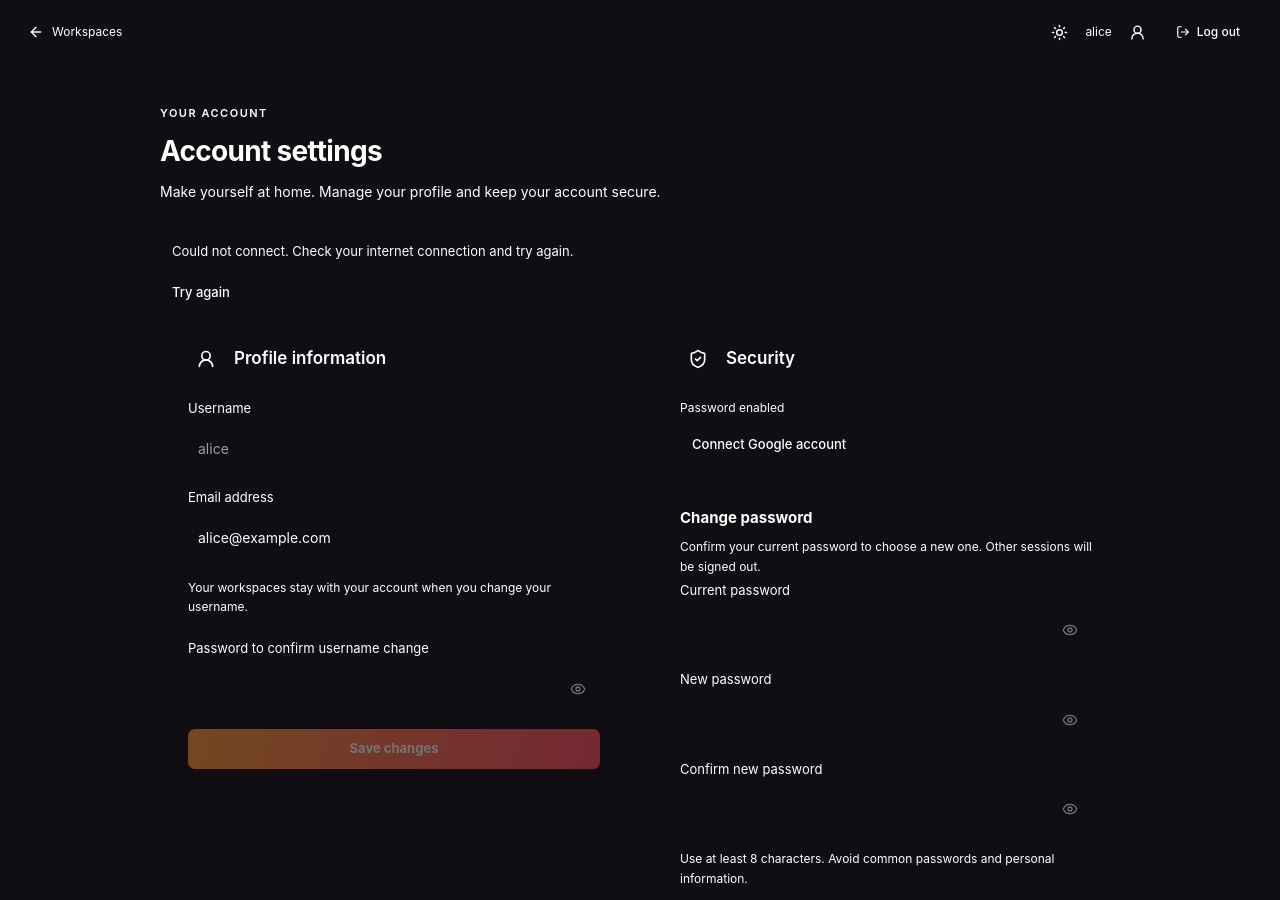
Test: disables changes after a load failure and allows retry
expect the message shows "Could not connect.": met, box [172,243,573,259]
expect the button "Save changes" is disabled: met, box [188,729,600,769]
Click the button "Try again".
click(201, 292)  # box [160,272,242,312]
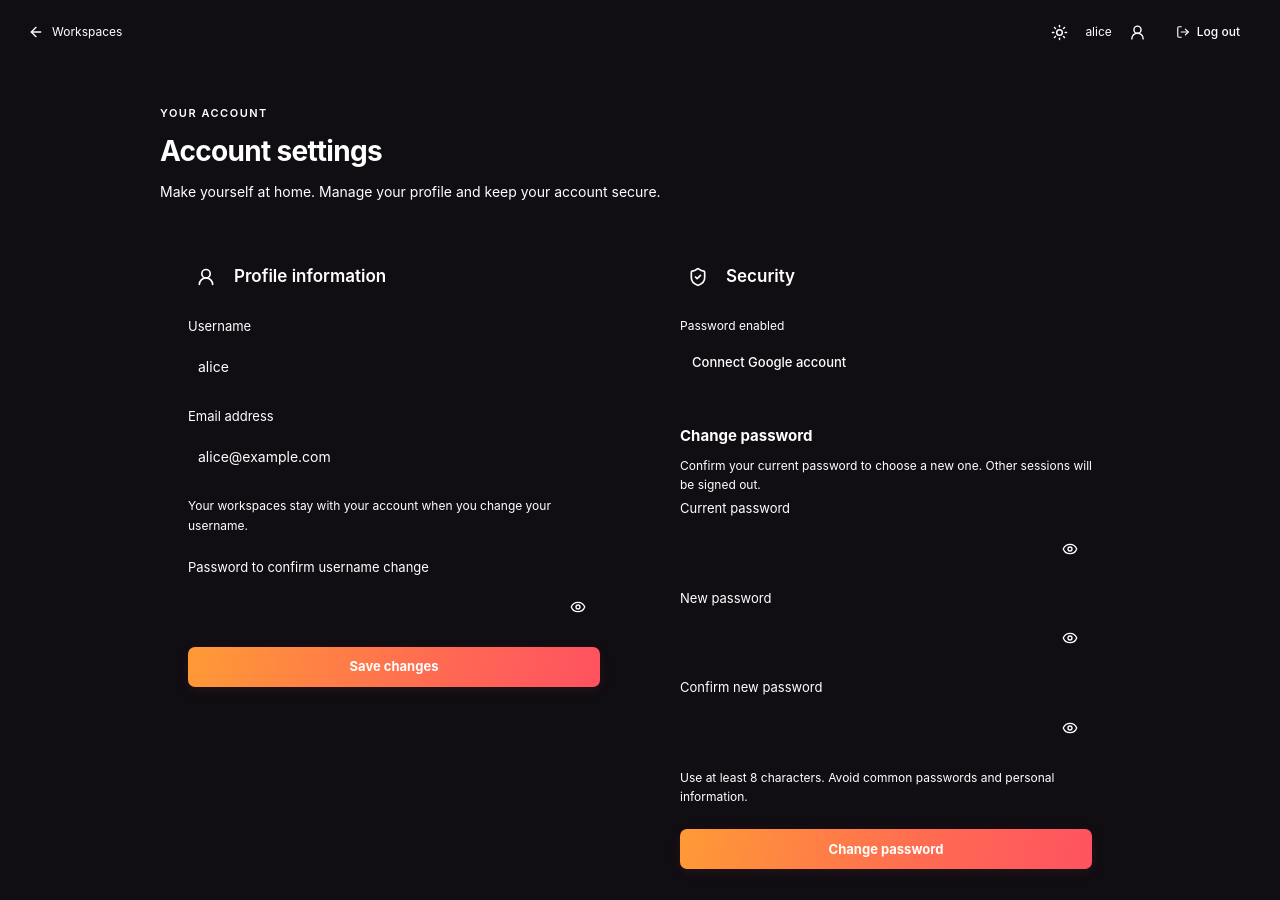
expect the field labelled "Username" is enabled: met, box [188,345,600,389]
expect the message "Could not connect. Check your internet connection and try again." is gone: met
